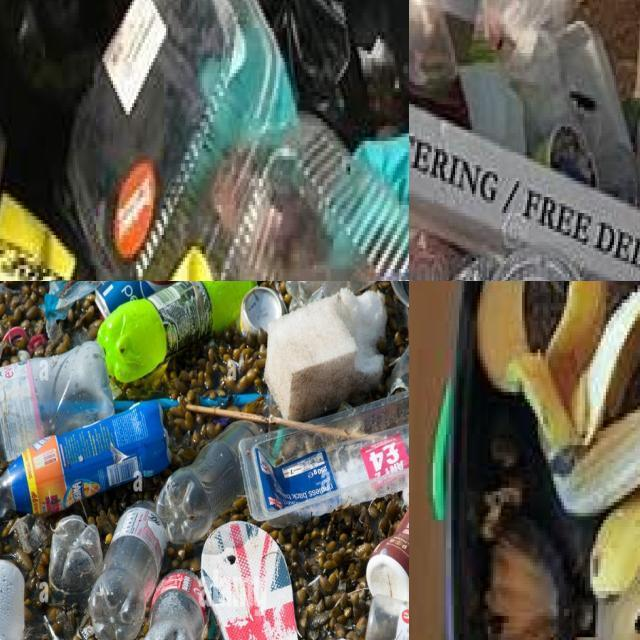Disposable: (66, 0, 409, 281), (239, 423, 409, 521), (409, 0, 457, 102), (0, 561, 24, 640)
Garbage: (0, 281, 409, 640), (435, 281, 640, 640), (409, 0, 640, 281)
Plastic: (201, 521, 298, 640)
Plastic_Bag: (354, 133, 409, 211), (45, 281, 103, 330)
Plastic_Straw: (156, 397, 178, 409), (113, 403, 134, 412)
Plastic_bottle: (0, 401, 171, 515), (97, 281, 257, 383), (0, 341, 113, 461), (156, 421, 257, 544), (88, 501, 167, 640), (48, 514, 104, 602), (145, 570, 206, 640), (366, 509, 409, 601), (287, 281, 378, 309), (365, 594, 409, 640)
Thermocol: (264, 289, 387, 421)
can: (96, 281, 176, 317), (240, 287, 287, 334)
